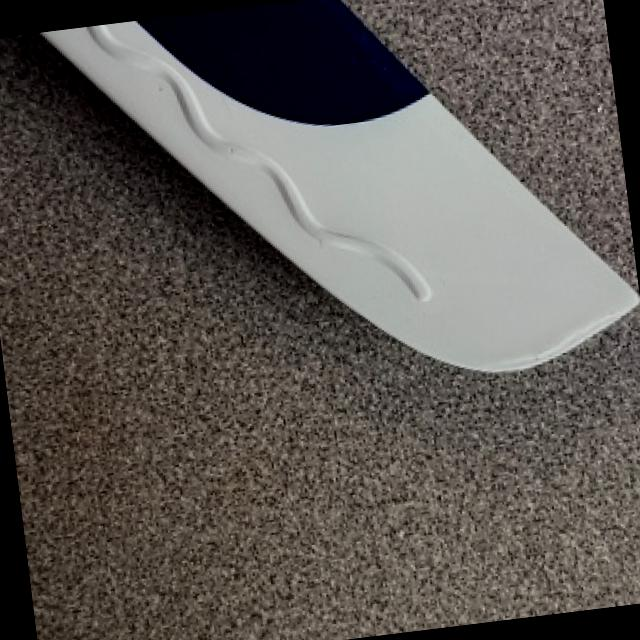healthy: (46, 0, 640, 369)
